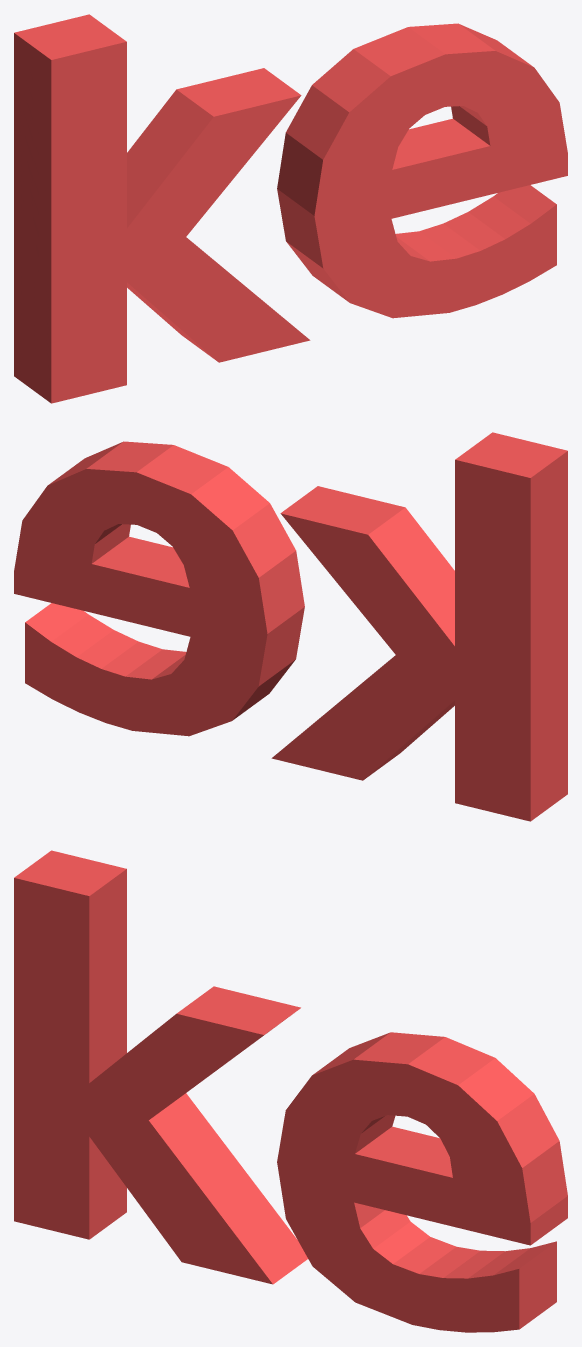
Rendered from suku_kecil_ke.glb.
3 views of the same model, one above another, from view 1: azimuth 30°, elevation 25°; view 2: azimuth 150°, elevation 25°; view 3: azimuth 330°, elevation 25° (orthographic).
Parts seen in each view (by area): view 1: geometry_0; view 2: geometry_0; view 3: geometry_0.
Boxes of the visible parts, box(x1,y1,x2,y2) form: geometry_0: box(14, 14, 567, 403); geometry_0: box(14, 432, 567, 821); geometry_0: box(14, 850, 567, 1332).
Size of the model in its own units: 11.96 by 7.74 by 1.5.
